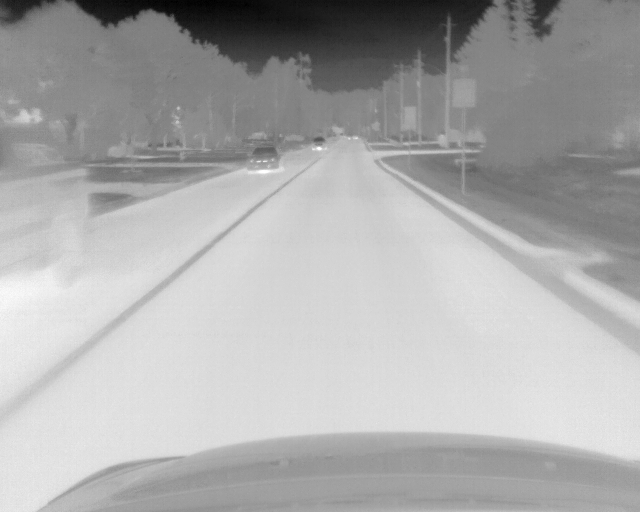car: (1, 143, 92, 290), (245, 146, 282, 172), (311, 135, 327, 152)
